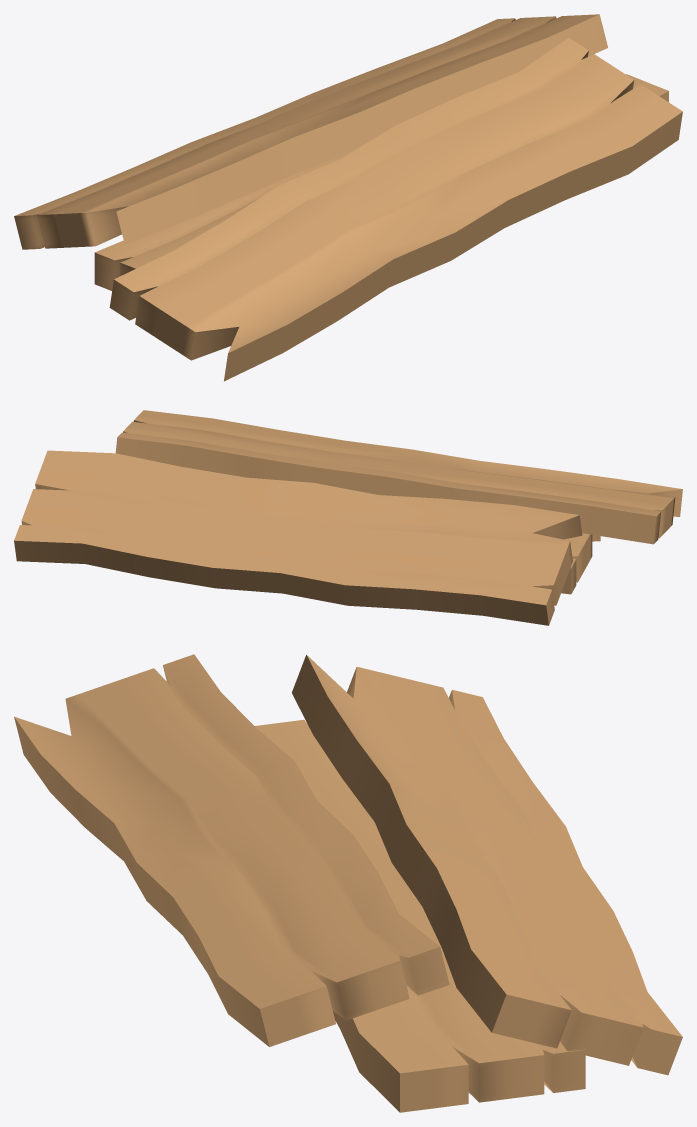
File: WoodenPlanks.fbx
The picture shows the model from 3 angles, top to bottom: view 1: azimuth 30°, elevation 25°; view 2: azimuth 150°, elevation 25°; view 3: azimuth 270°, elevation 25°; orthographic projection. The views are drawn at different scales.
Visible parts, largest first — view 1: Plank2, Plank1, Plank; view 2: Plank1, Plank2, Plank; view 3: Plank2, Plank1, Plank.
Boxes of the visible parts, left/top/right/bottom form: Plank2: left=109, top=38, right=682, bottom=381; Plank1: left=14, top=14, right=607, bottom=249; Plank: left=94, top=74, right=668, bottom=290; Plank1: left=14, top=450, right=582, bottom=625; Plank2: left=115, top=410, right=682, bottom=544; Plank: left=561, top=533, right=600, bottom=594; Plank2: left=14, top=654, right=449, bottom=1046; Plank1: left=292, top=655, right=682, bottom=1075; Plank: left=255, top=719, right=585, bottom=1112.
Bounding box in the file's own units: 11.96 × 1.7 × 8.79.
